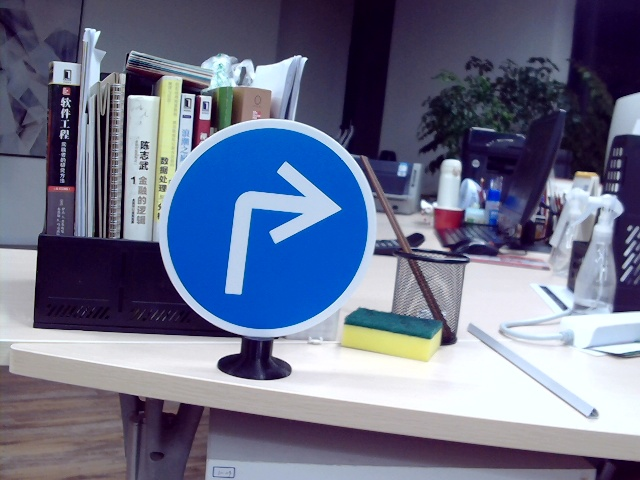turn_right: (214, 159, 340, 303)
